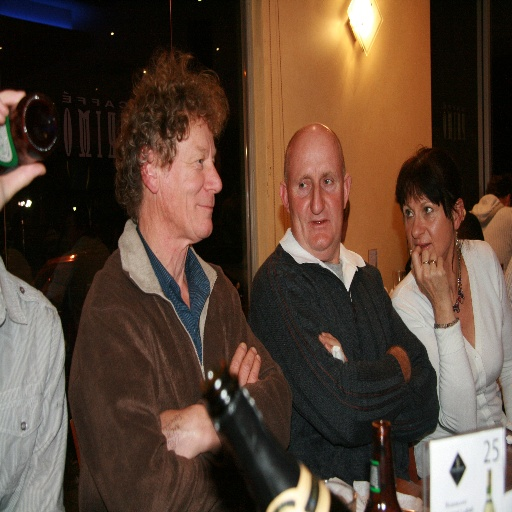hand: (0, 88, 47, 208), (157, 394, 211, 467), (409, 242, 450, 309), (227, 340, 262, 390), (318, 328, 348, 364), (387, 343, 411, 382)
